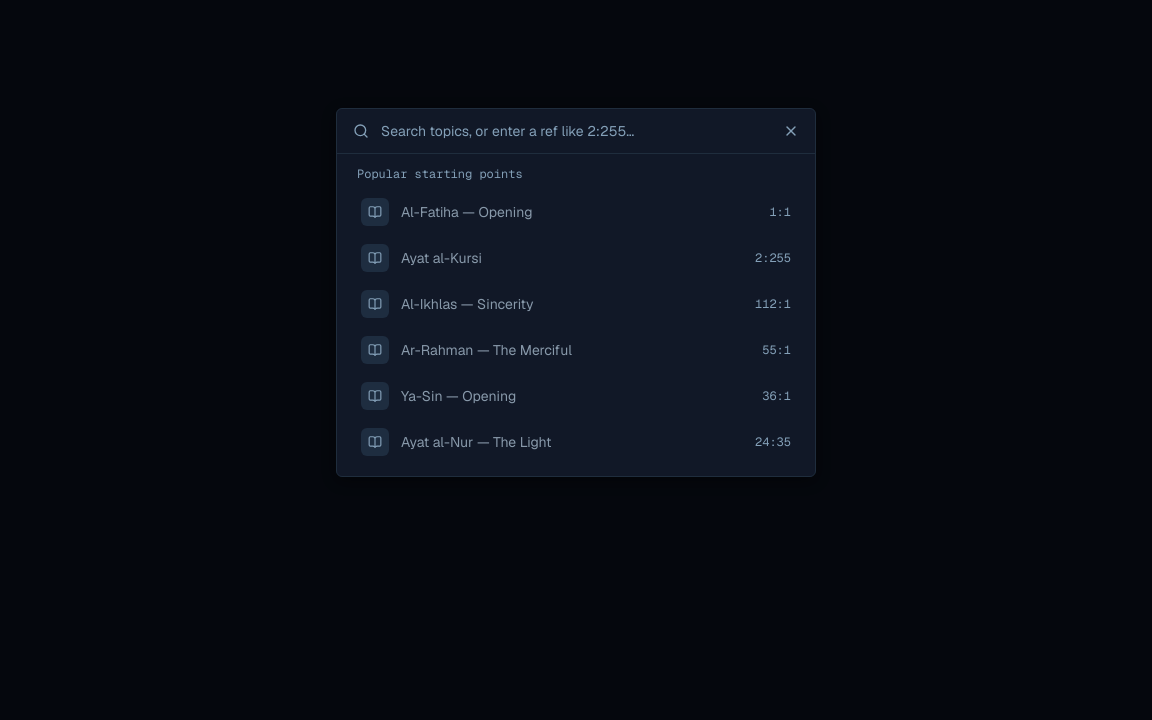
Scenario: SearchDialog — rate-limit vs. genuine empty results › shows a distinct message for a 429 response, not the generic 'no results' copy
In the dropdown with placeholder "Search topics, or enter a ref like 2:255…": (576, 131) [381,121,771,141], type "mercy"
Wait 420 ms
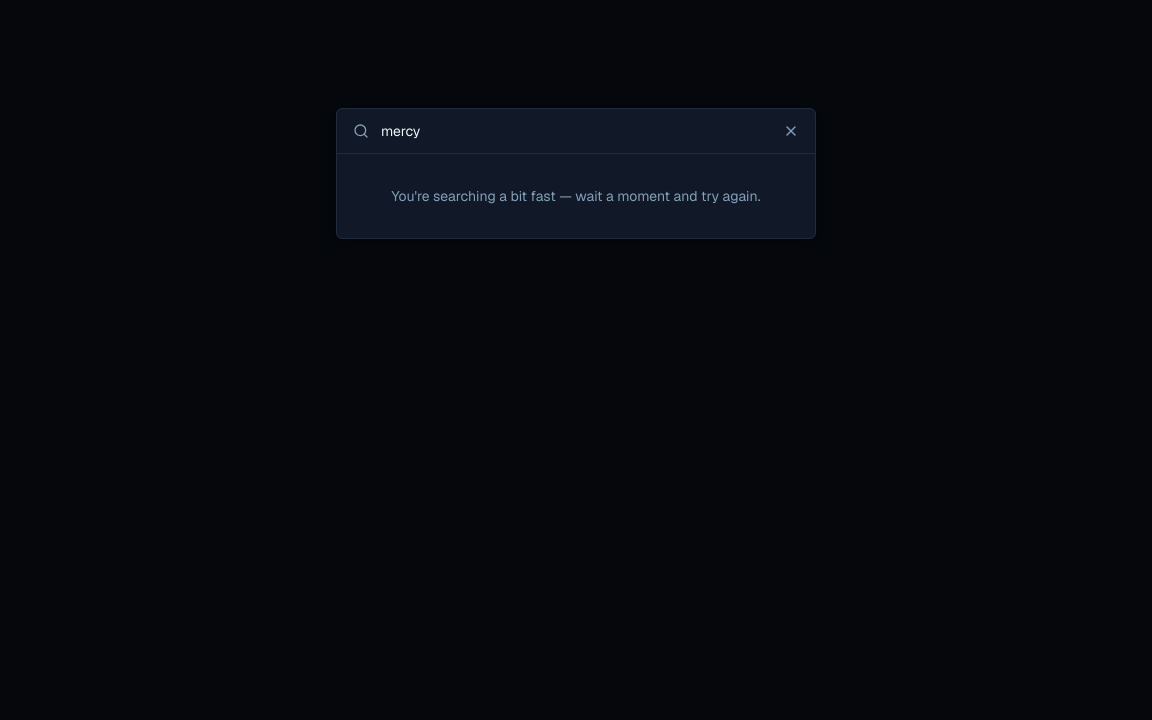
Expected: the text "You're searching a bit fast — wait a moment and try again." is shown, [391,187,760,205]
